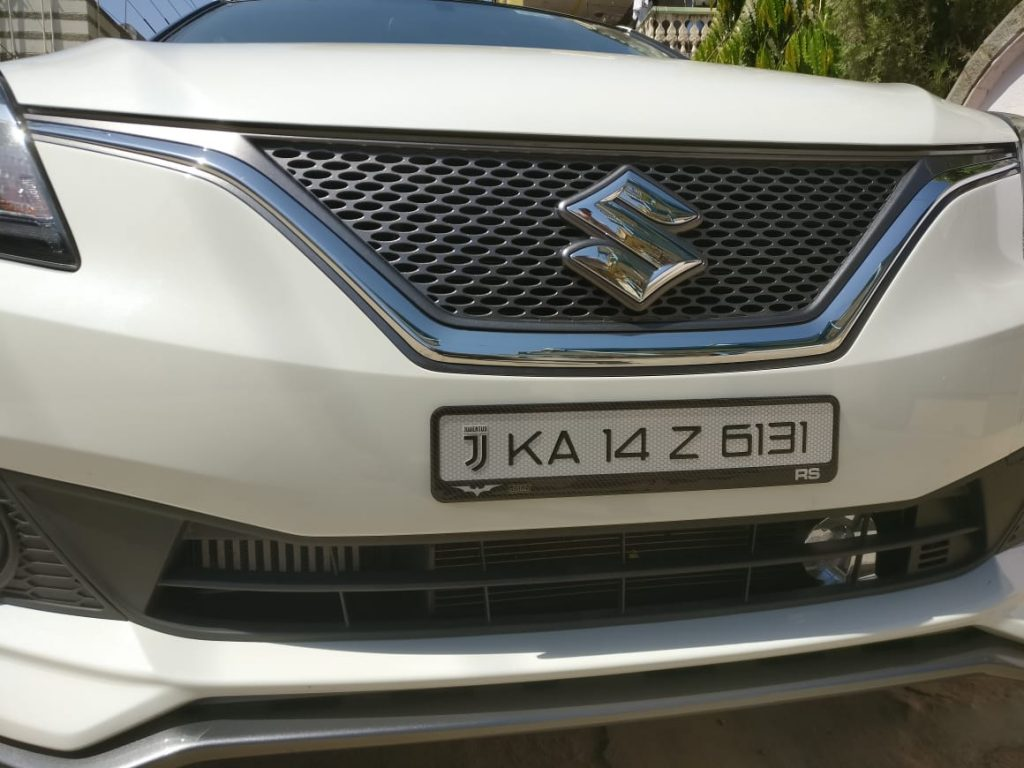number_plate: (426, 394, 850, 506)
